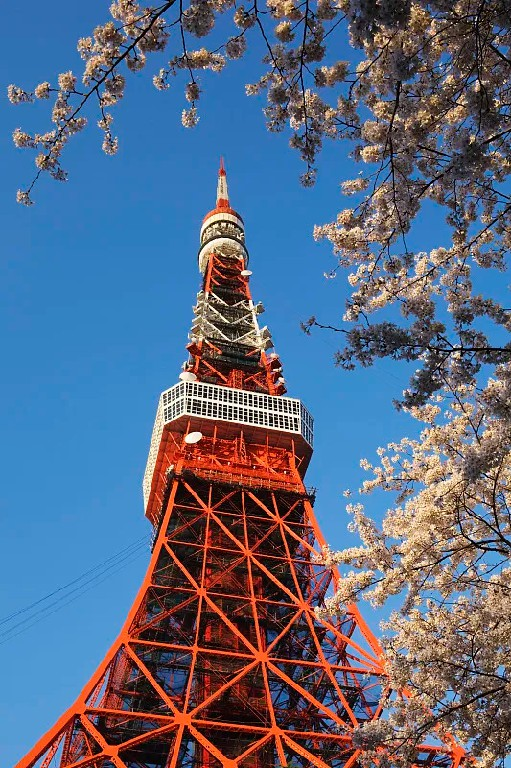Tokyo: (12, 147, 483, 766)
